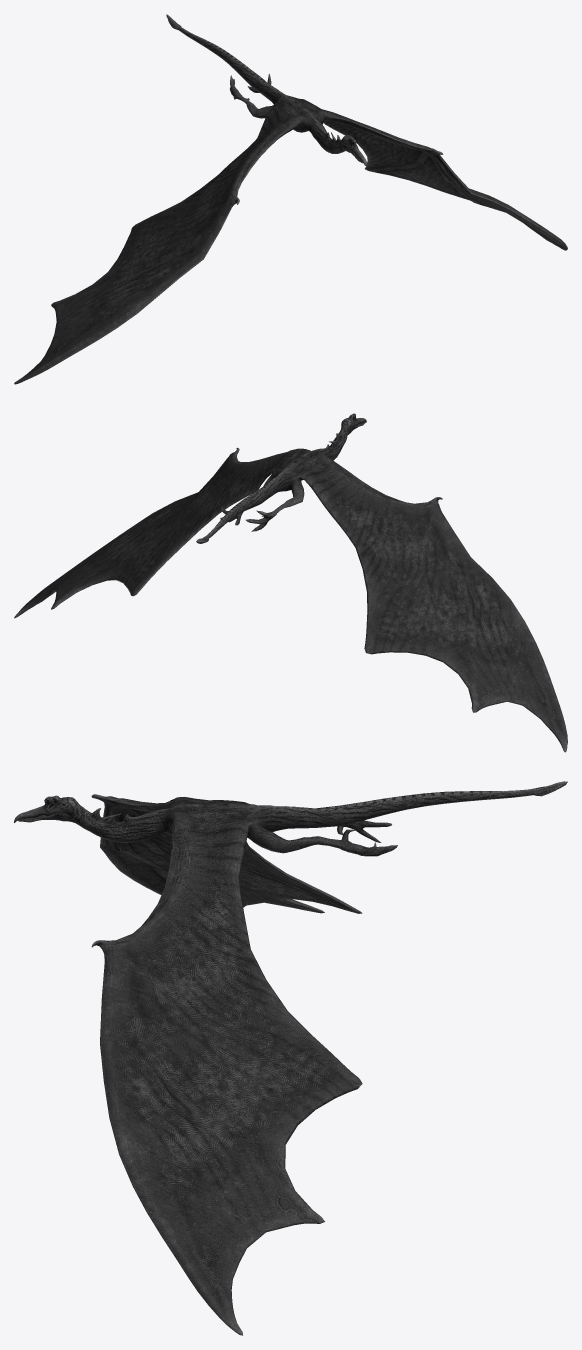
Rendered from Fellbeast_Animate_Flying_23.obj.
3 renders of one model, top to bottom at view 1: azimuth 30°, elevation 25°; view 2: azimuth 150°, elevation 25°; view 3: azimuth 270°, elevation 25°, orthographic. The views are drawn at different scales.
Visible parts, largest first — view 1: Fellbeast; view 2: Fellbeast; view 3: Fellbeast.
Boxes of the visible parts, box(x1,y1,x2,y2) form: Fellbeast: box(14, 14, 567, 384); Fellbeast: box(14, 413, 567, 752); Fellbeast: box(14, 781, 567, 1335).
Bounding box in the file's own units: 7.58 × 2.99 × 4.39.
